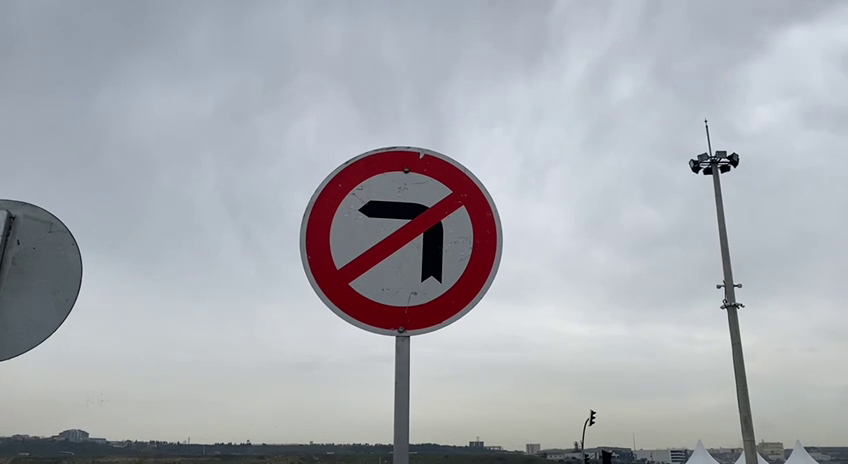noTurnLeft: (297, 144, 505, 338)
